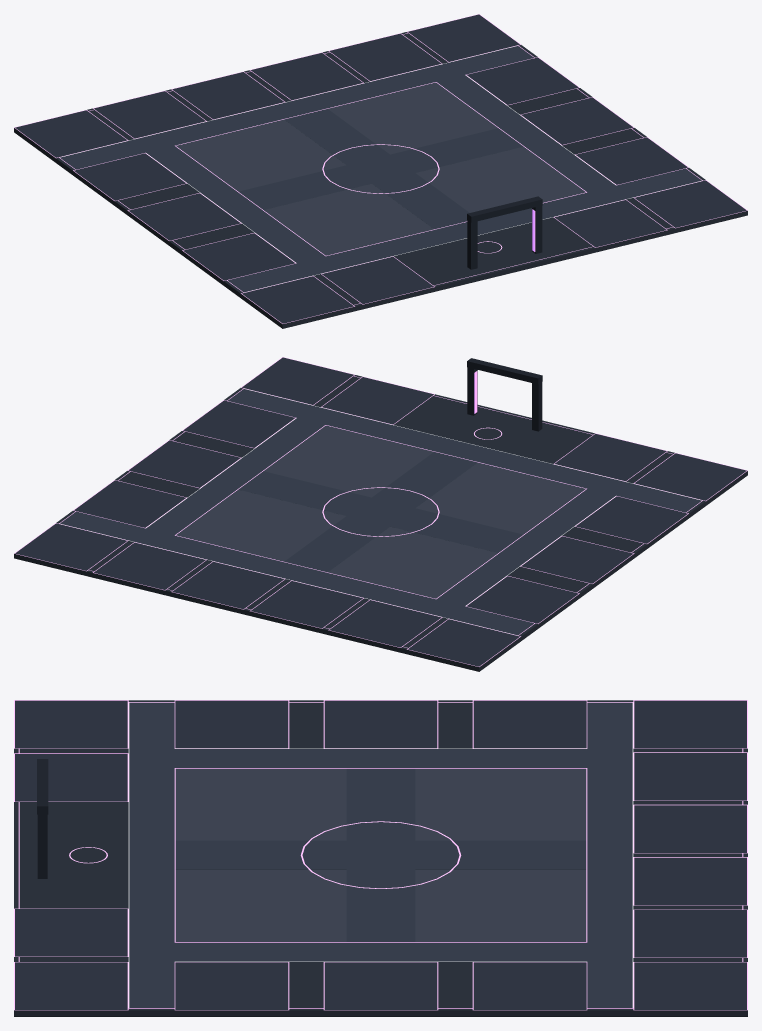
The picture shows the model from 3 angles, top to bottom: view 1: azimuth 30°, elevation 25°; view 2: azimuth 150°, elevation 25°; view 3: azimuth 270°, elevation 25°; orthographic projection. The views are drawn at different scales.
Visible parts, largest first — view 1: district_cero.lod1; view 2: district_cero.lod1; view 3: district_cero.lod1.
Part boxes in pixels (x1,y1,x2,y2): district_cero.lod1: [14, 14, 747, 328]; district_cero.lod1: [14, 357, 747, 671]; district_cero.lod1: [14, 700, 747, 1016].
Bounding box in the file's own units: 64 × 7.62 × 64.
